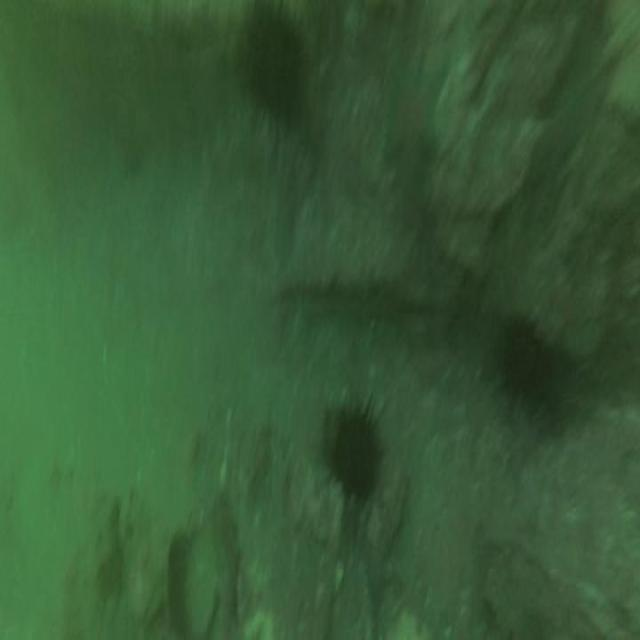echinus: (248, 24, 306, 131), (499, 322, 559, 420), (330, 412, 380, 497)
starfish: (386, 56, 442, 186)
